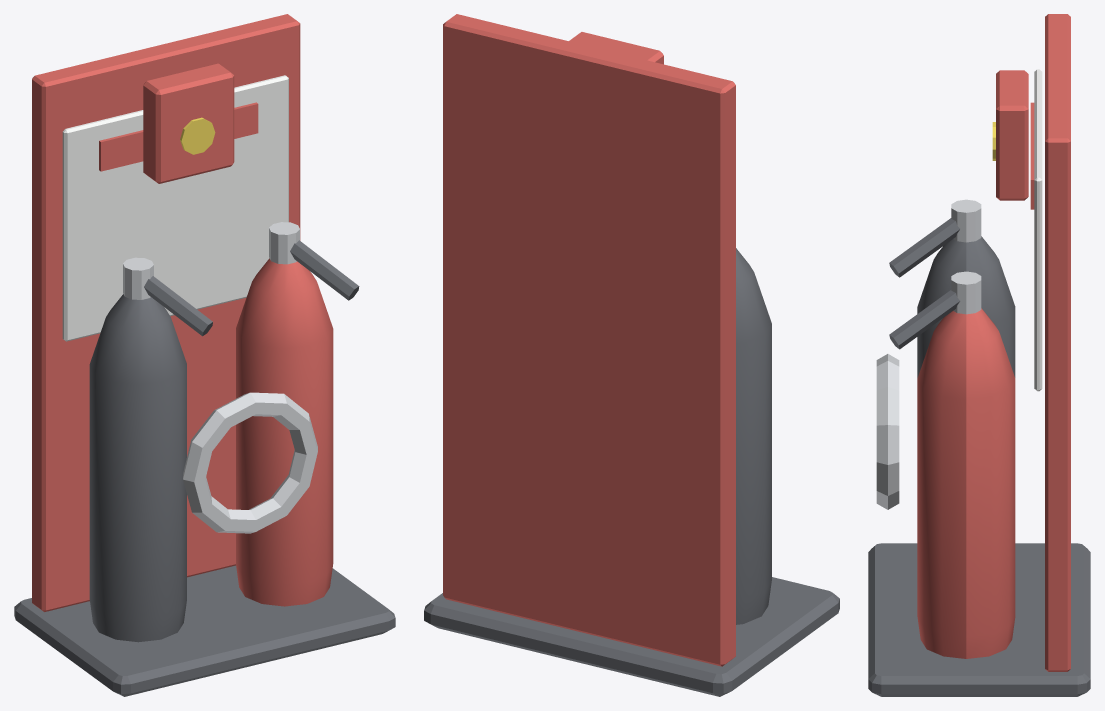
Rendered from public-swimming-baths-and-poolside-poolside-fire-point-cb332e09__35285.glb.
3 views of the same model, side by side, from view 1: azimuth 30°, elevation 25°; view 2: azimuth 150°, elevation 25°; view 3: azimuth 270°, elevation 25° (orthographic). The views are drawn at different scales.
Parts seen in each view (by area): view 1: poolside-fire-point; view 2: poolside-fire-point; view 3: poolside-fire-point.
Boxes of the visible parts, x1=… form: poolside-fire-point: x1=14, y1=14, x2=395, y2=696; poolside-fire-point: x1=424, y1=14, x2=839, y2=696; poolside-fire-point: x1=868, y1=14, x2=1090, y2=696.
Bounding box in the file's own units: 0.5 × 0.94 × 0.34.
